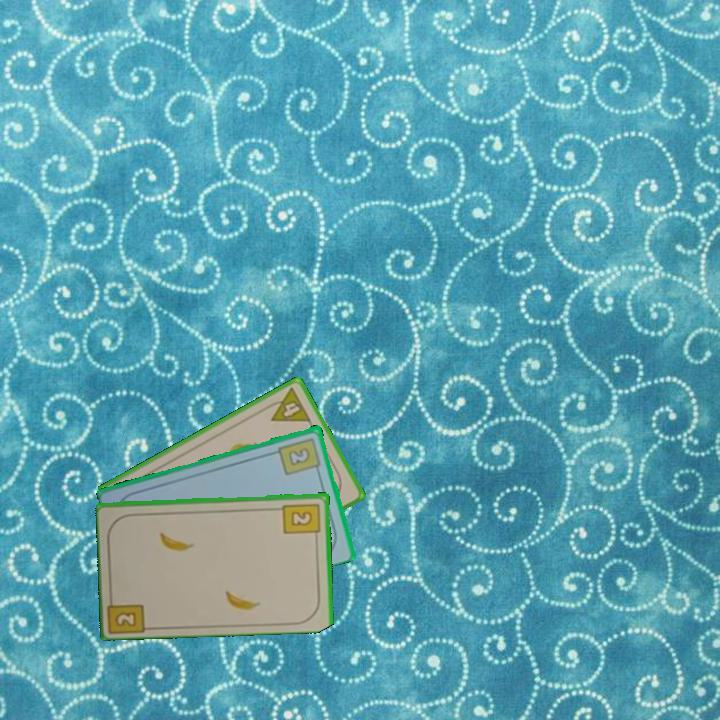2b: (275, 434, 324, 478), (106, 590, 150, 635), (280, 500, 323, 541)
4p: (261, 384, 314, 425)
